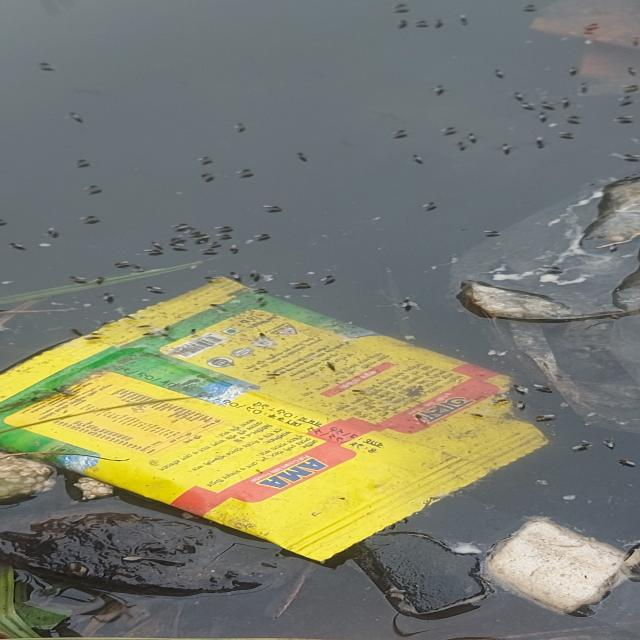Breeding Place: (0, 1, 633, 640)
